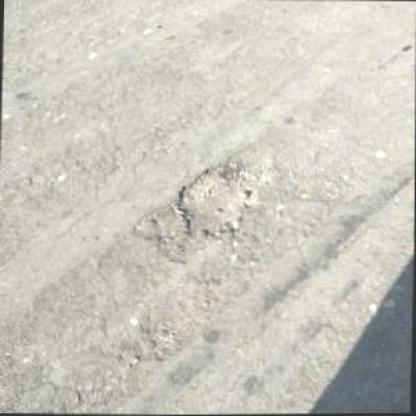pothole: (169, 158, 266, 243)
